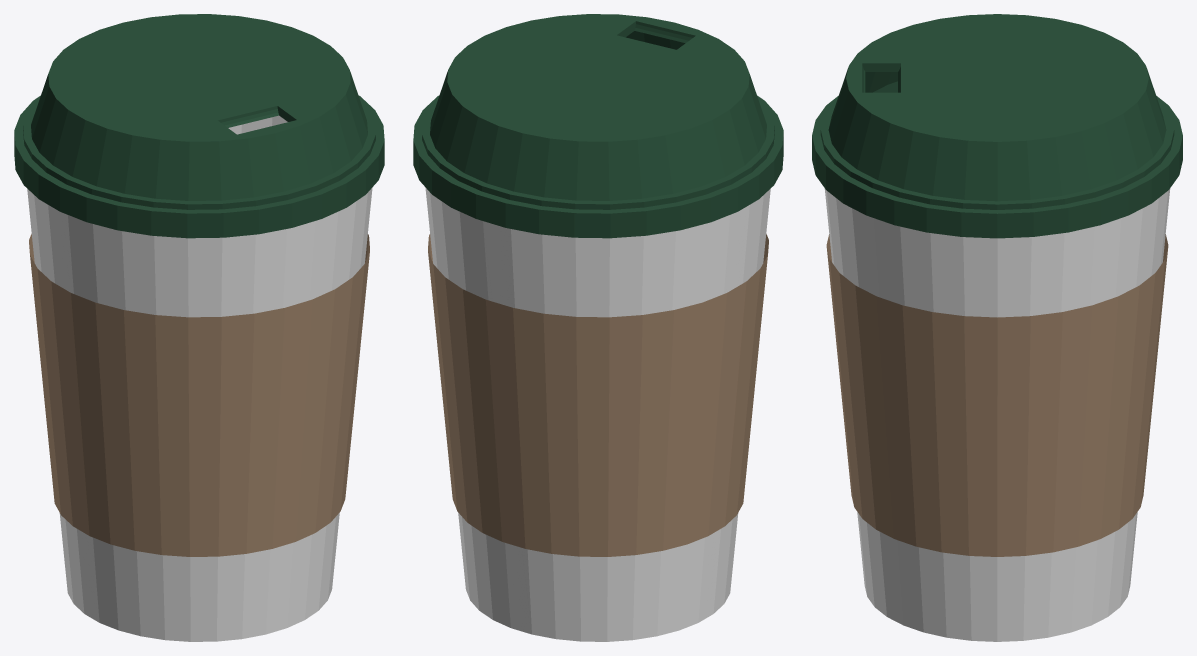
The model's file is coffeeCup.fbx.
3 renders of one model, left to right at view 1: azimuth 30°, elevation 25°; view 2: azimuth 150°, elevation 25°; view 3: azimuth 270°, elevation 25°, orthographic.
Parts seen in each view (by area): view 1: cup; view 2: cup; view 3: cup.
Part boxes in pixels (box(x1,y1,x2,y2)): cup: box(14, 14, 384, 641); cup: box(413, 14, 783, 641); cup: box(812, 14, 1182, 641).
Bounding box in the file's own units: 279 × 422 × 279.
